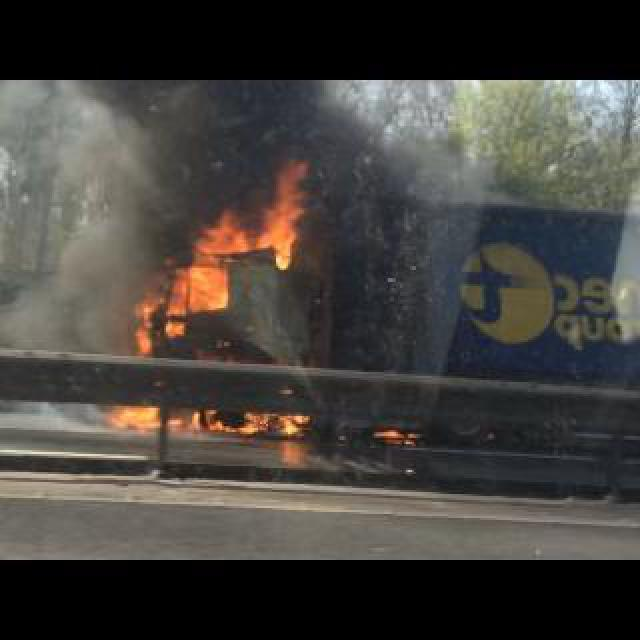Fire: (136, 158, 316, 354)
Smoke: (14, 76, 410, 222)
